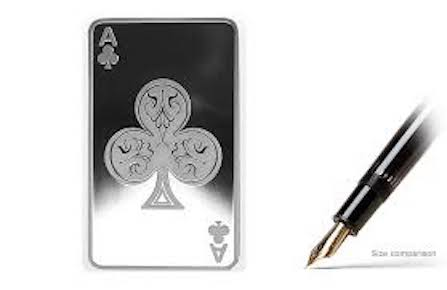AceOfClubs: (84, 14, 244, 277)
